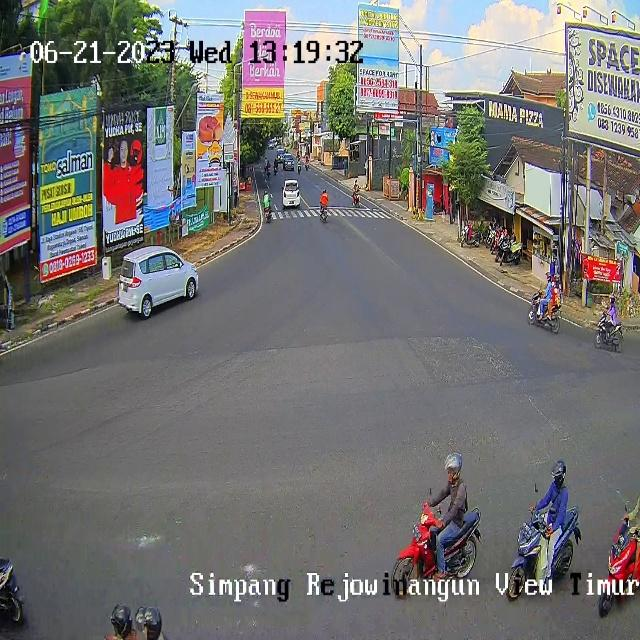bus: (390, 499, 482, 598), (506, 505, 580, 599), (597, 520, 640, 617), (0, 555, 27, 627), (528, 286, 560, 332), (594, 310, 622, 351), (319, 205, 328, 222), (265, 207, 273, 224), (353, 189, 360, 207), (304, 160, 310, 171), (297, 162, 301, 173)
motorcycle: (119, 246, 200, 319), (281, 178, 301, 209), (283, 153, 295, 170)
